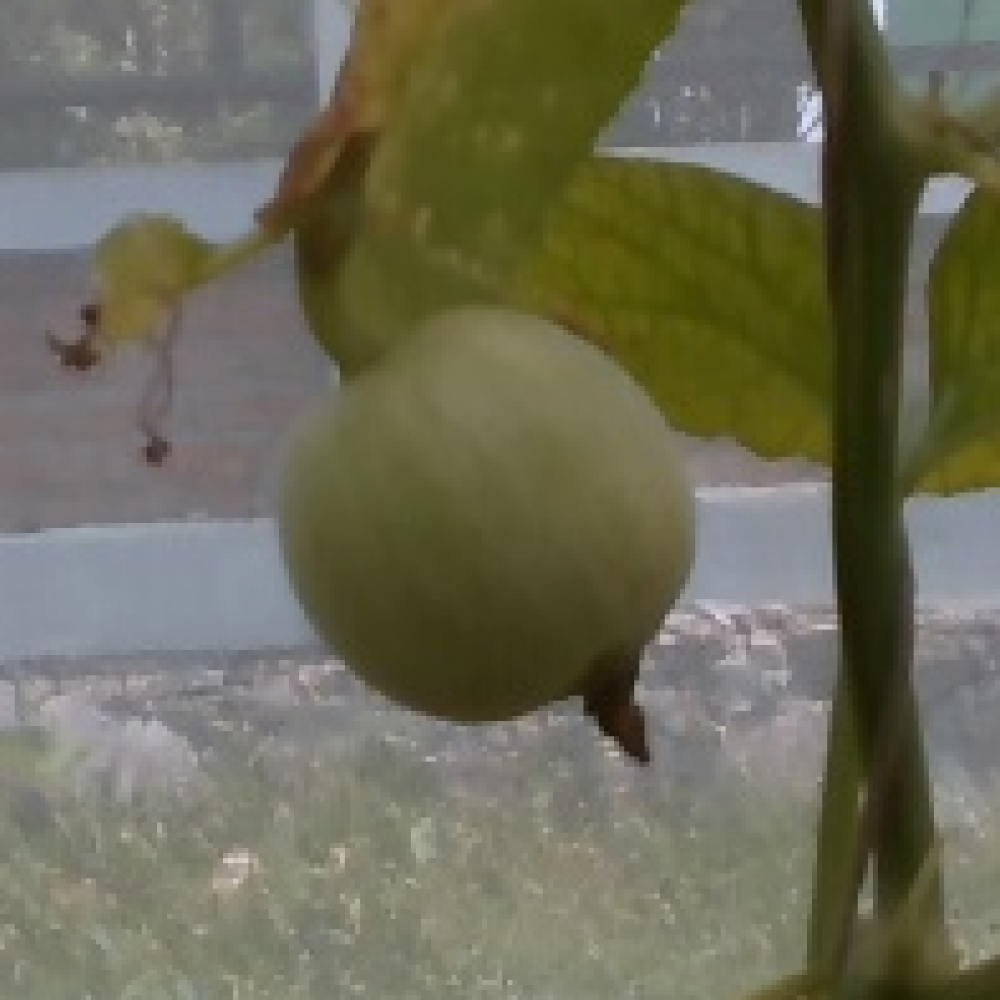melon: (273, 301, 708, 770)
